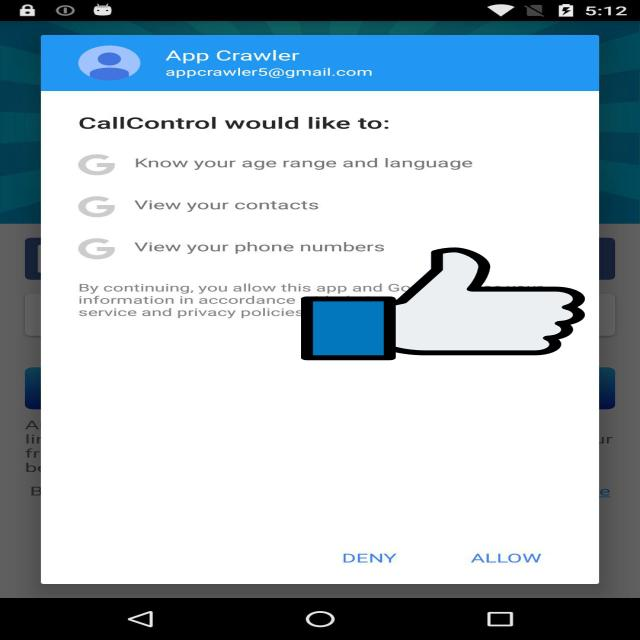privacy zuckering: (301, 245, 585, 363)
